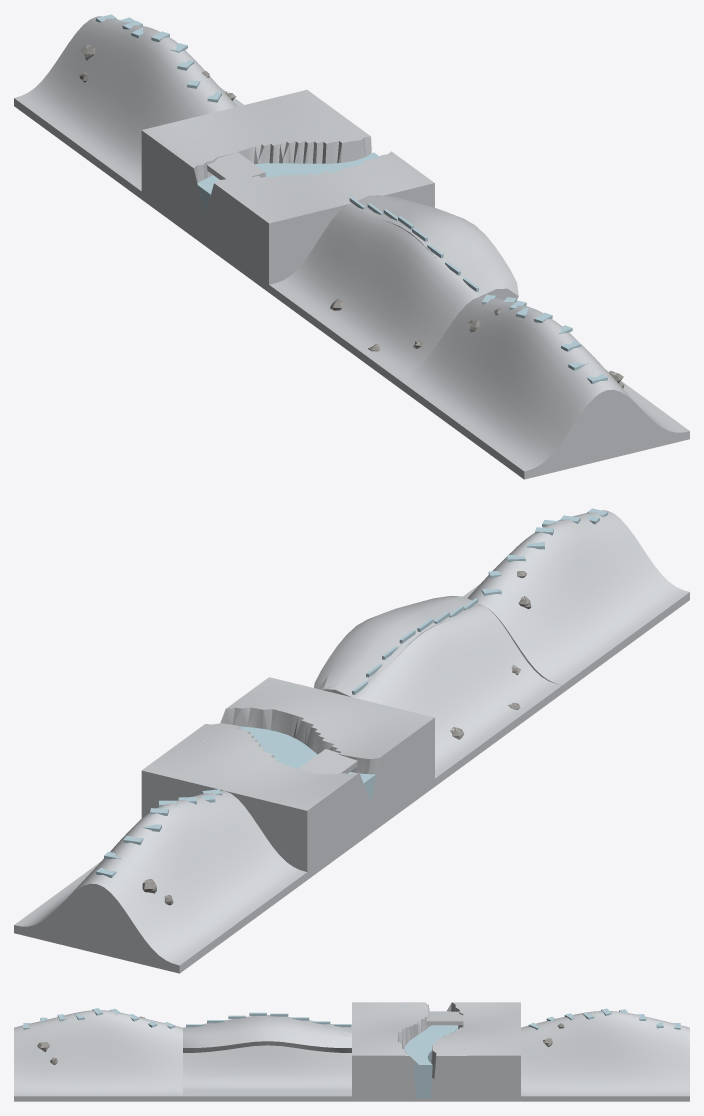
Rendered from mountaineering-and-summit-expedition-route-connector-c-53e32fb7__18835.glb.
3 views of the same model, one above another, from view 1: azimuth 30°, elevation 25°; view 2: azimuth 150°, elevation 25°; view 3: azimuth 270°, elevation 25° (orthographic). The views are drawn at different scales.
Parts seen in each view (by area): view 1: 001-crevasse-module/0, 003-snow-ridge-module/0, 002-corniced-ridge-module/0, 000-snow-ridge-module/0, 001-crevasse-module/1, 003-snow-ridge-module/2, 000-snow-ridge-module/2, 002-corniced-ridge-module/1; view 2: 001-crevasse-module/0, 000-snow-ridge-module/0, 002-corniced-ridge-module/0, 003-snow-ridge-module/0, 001-crevasse-module/1, 000-snow-ridge-module/2, 003-snow-ridge-module/2, 002-corniced-ridge-module/1; view 3: 001-crevasse-module/0, 000-snow-ridge-module/0, 003-snow-ridge-module/0, 002-corniced-ridge-module/0, 001-crevasse-module/1, 002-corniced-ridge-module/1, 000-snow-ridge-module/2, 003-snow-ridge-module/2.
Part boxes in pixels (<box>): 001-crevasse-module/0: <box>141,90,434,292</box>; 003-snow-ridge-module/0: <box>396,296,689,479</box>; 002-corniced-ridge-module/0: <box>269,195,518,385</box>; 000-snow-ridge-module/0: <box>14,16,243,199</box>; 001-crevasse-module/1: <box>197,152,379,214</box>; 003-snow-ridge-module/2: <box>482,294,607,383</box>; 000-snow-ridge-module/2: <box>96,14,221,102</box>; 002-corniced-ridge-module/1: <box>349,197,478,291</box>; 001-crevasse-module/0: <box>141,677,434,879</box>; 000-snow-ridge-module/0: <box>14,790,307,973</box>; 002-corniced-ridge-module/0: <box>314,596,562,786</box>; 003-snow-ridge-module/0: <box>463,510,689,693</box>; 001-crevasse-module/1: <box>240,726,375,802</box>; 000-snow-ridge-module/2: <box>96,789,222,877</box>; 003-snow-ridge-module/2: <box>481,508,607,596</box>; 002-corniced-ridge-module/1: <box>352,598,478,694</box>; 001-crevasse-module/0: <box>352,1002,520,1101</box>; 000-snow-ridge-module/0: <box>521,1011,689,1101</box>; 003-snow-ridge-module/0: <box>14,1010,182,1101</box>; 002-corniced-ridge-module/0: <box>183,1015,351,1101</box>; 001-crevasse-module/1: <box>404,1011,458,1097</box>; 002-corniced-ridge-module/1: <box>186,1012,351,1027</box>; 000-snow-ridge-module/2: <box>528,1008,680,1029</box>; 003-snow-ridge-module/2: <box>23,1008,175,1029</box>.
Size of the model in its own units: 3 by 1.67 by 16.
